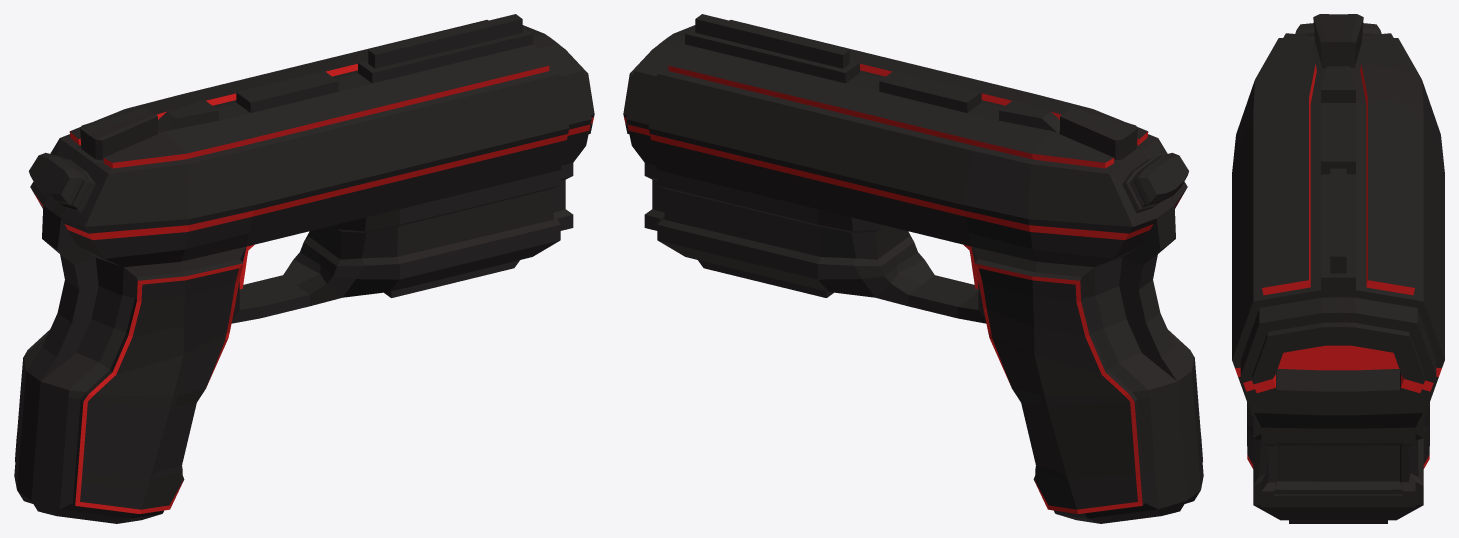
Rendered from pistol00.glb.
3 renders of one model, left to right at view 1: azimuth 30°, elevation 25°; view 2: azimuth 150°, elevation 25°; view 3: azimuth 270°, elevation 25°, orthographic. The views are drawn at different scales.
Parts seen in each view (by area): view 1: Gun.001; view 2: Gun.001; view 3: Gun.001.
Boxes of the visible parts, bbox=[...] form: Gun.001: bbox=[14, 14, 594, 523]; Gun.001: bbox=[623, 14, 1203, 523]; Gun.001: bbox=[1232, 14, 1444, 523].
Bounding box in the file's own units: 0.2771 × 0.1956 × 0.0781.
Materials: 1 (1 with a texture image).
